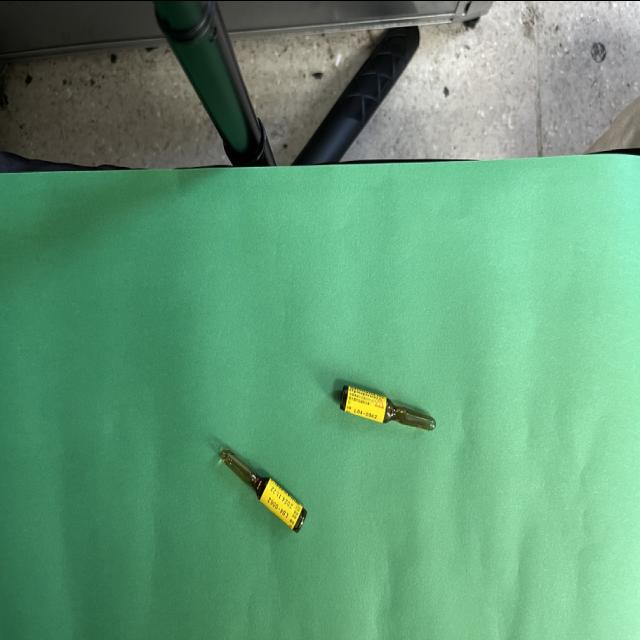Ampoules: (220, 448, 306, 530), (341, 385, 436, 429)
